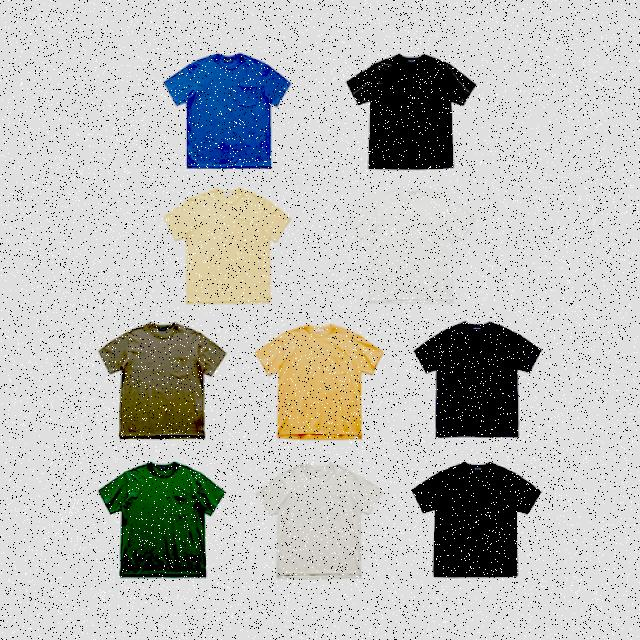dress: (408, 451, 547, 580), (413, 310, 538, 443), (251, 462, 389, 580), (150, 186, 285, 306), (95, 454, 219, 578), (350, 52, 475, 172), (351, 183, 471, 306), (258, 324, 387, 437), (172, 40, 284, 159), (113, 318, 220, 435)
